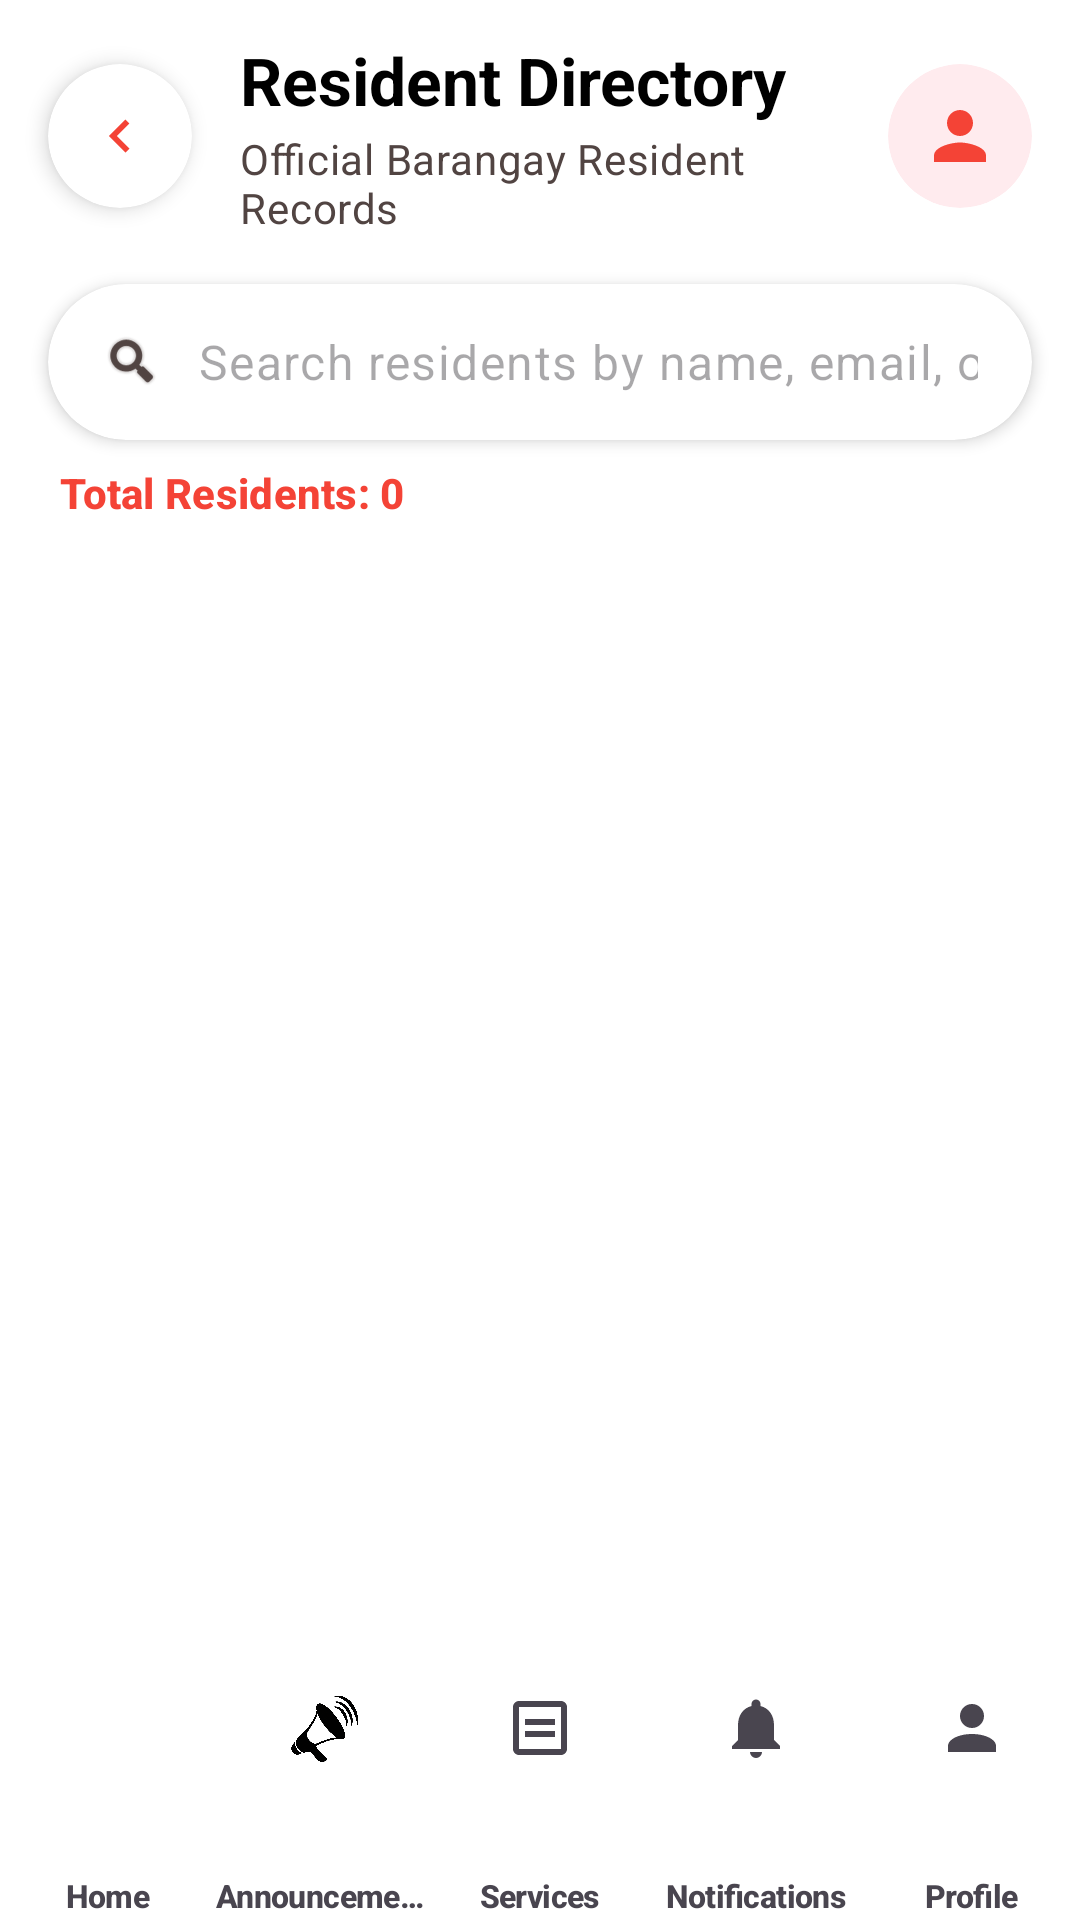

Icon bounding boxes for this 1080*1920 phone screenshot, format (x1, y1, x2, y2):
search category: (109, 339, 154, 383)
user: (934, 110, 986, 162)
